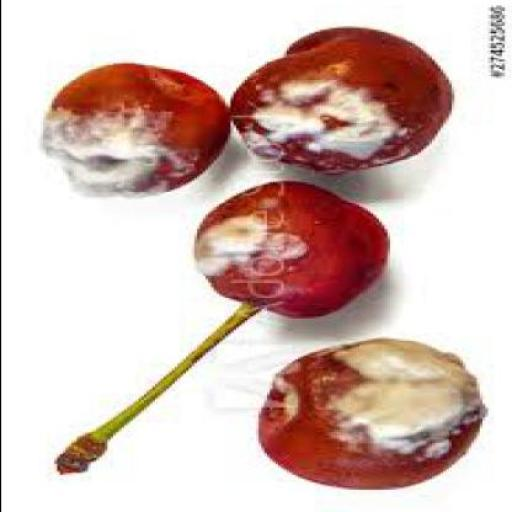biodegradable: (53, 183, 389, 478), (254, 340, 484, 492), (224, 30, 450, 174), (190, 182, 390, 323), (36, 64, 224, 198)
